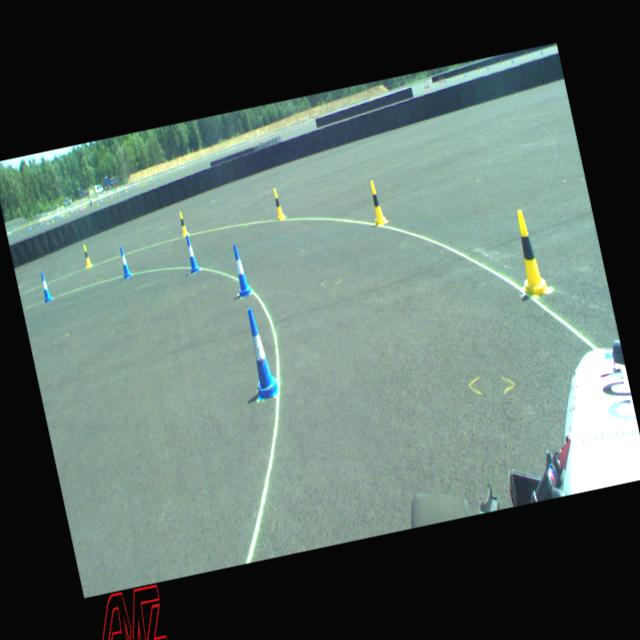blue_cone: (240, 306, 280, 398), (228, 243, 252, 296), (182, 234, 200, 272), (117, 246, 131, 278), (38, 272, 52, 302)
yellow_cone: (506, 207, 548, 299), (366, 179, 386, 224), (272, 188, 284, 218), (178, 210, 188, 237), (82, 244, 92, 268)
